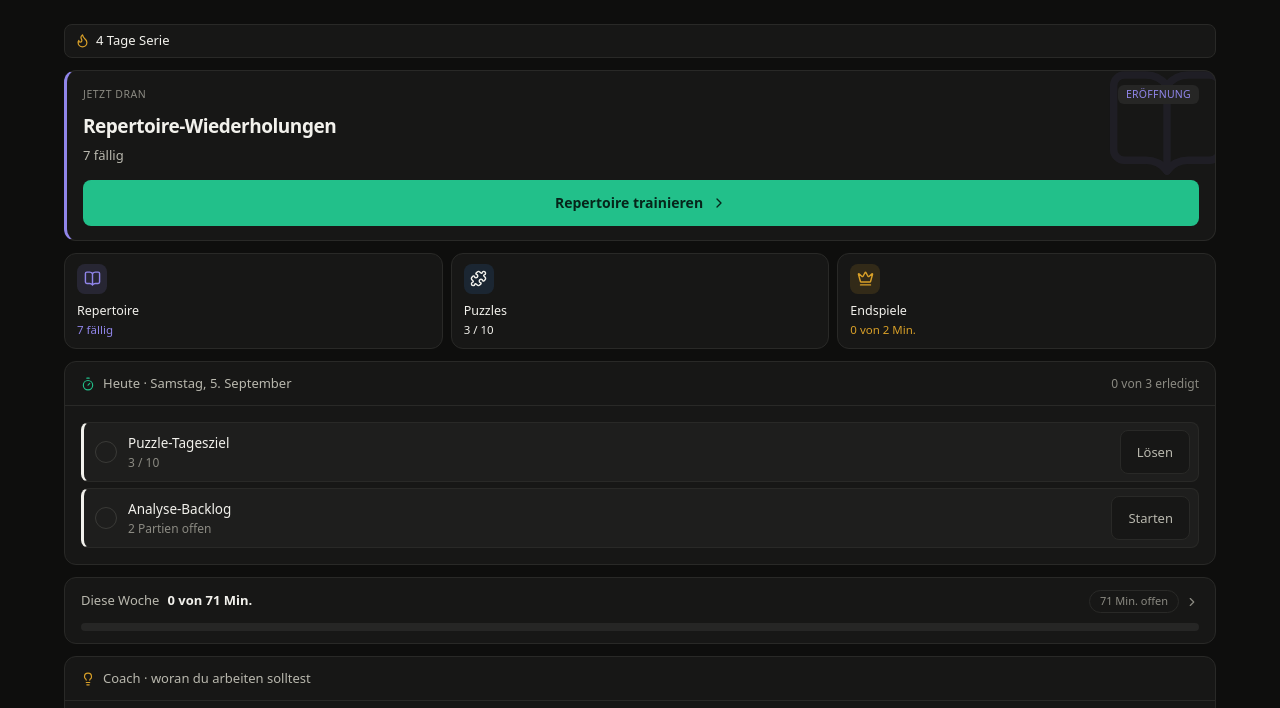
Test: Study page › puts what is due now above the trainers on mobile
The image size is (1280, 708).
Click the button "Diese Woche 0 von 71 Min. 71 Min. offen": (120, 600) [65,578,1215,643]
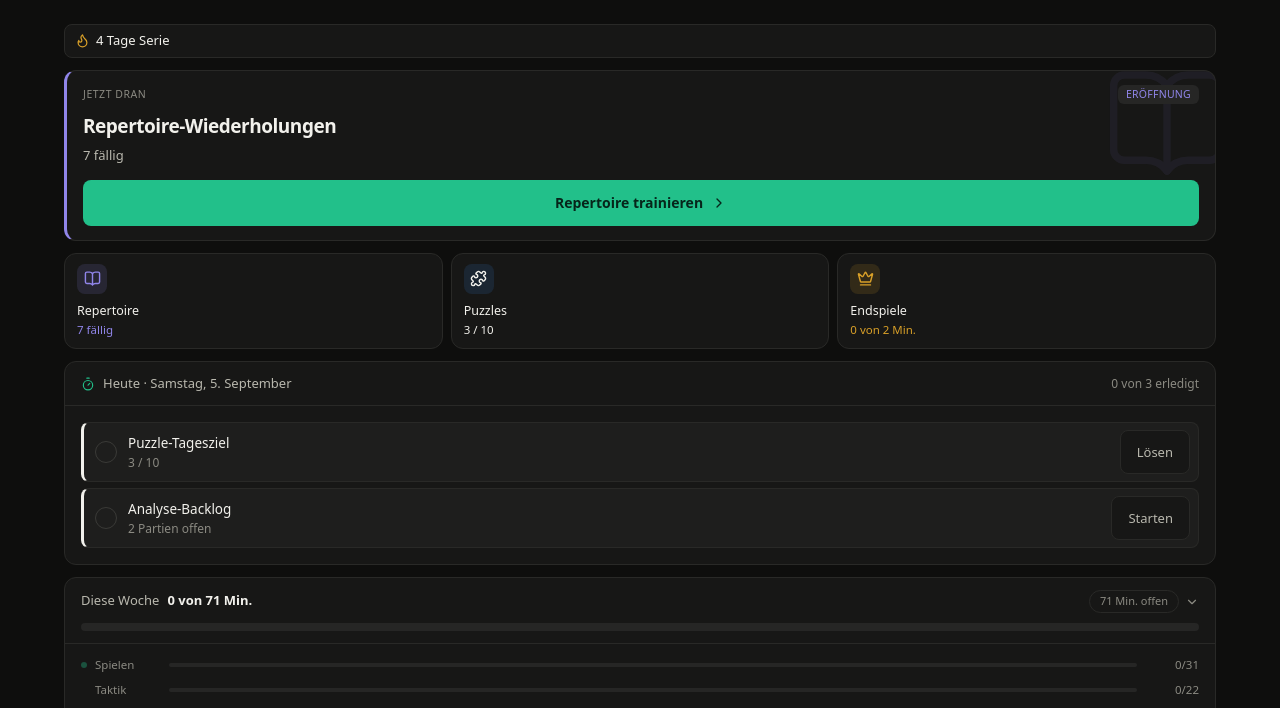
expect the list item "Taktik 0/22" is shown: met, box [81,681,1199,698]
